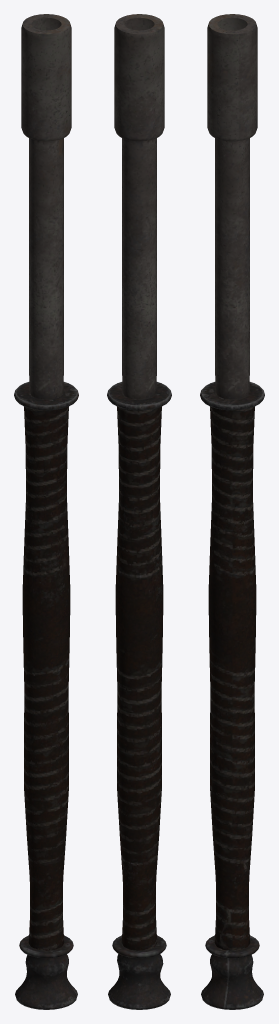
The model's file is wm_dol_goldur_2h_mace_a02_handle.fbx.
The picture shows the model from 3 angles, left to right: view 1: azimuth 90°, elevation 25°; view 2: azimuth 150°, elevation 25°; view 3: azimuth 270°, elevation 25°; orthographic projection.
Visible parts, largest first — view 1: wm_dol_goldur_2h_mace_a02_handle; view 2: wm_dol_goldur_2h_mace_a02_handle; view 3: wm_dol_goldur_2h_mace_a02_handle.
Boxes of the visible parts, <box> form: wm_dol_goldur_2h_mace_a02_handle: <box>14,14,78,1009</box>; wm_dol_goldur_2h_mace_a02_handle: <box>107,14,171,1009</box>; wm_dol_goldur_2h_mace_a02_handle: <box>200,14,264,1009</box>.
Size of the model in its own units: 0.0536 by 0.0536 by 0.8863.
1 material, 1 textured.
